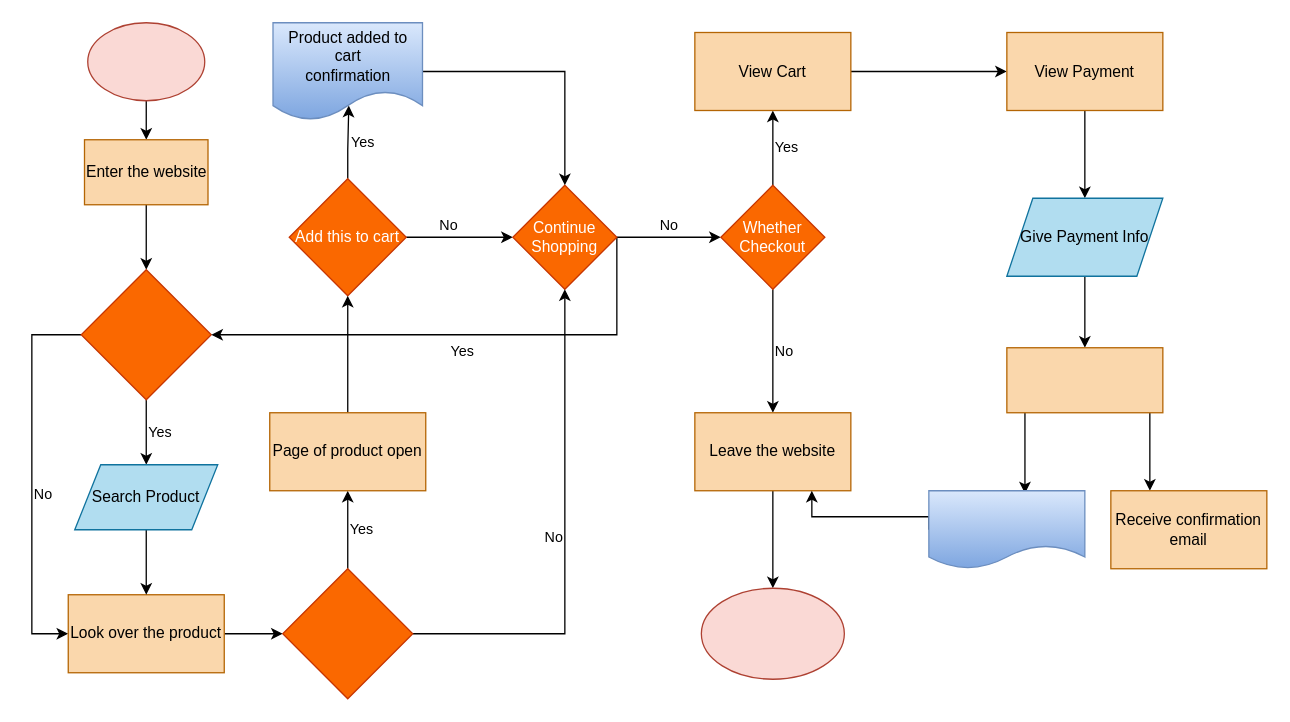
Image size: 1290x722. Some labels were removed from this diagram. Here are the shapes that lost their labels. From the top down, the centre of each, then its label:
pixel 145 61: Start
pixel 145 334: Explore on homepage or search
pixel 1084 379: Paid
pixel 1006 529: Order Confirmation
pixel 347 633: View specific product
pixel 772 633: End
